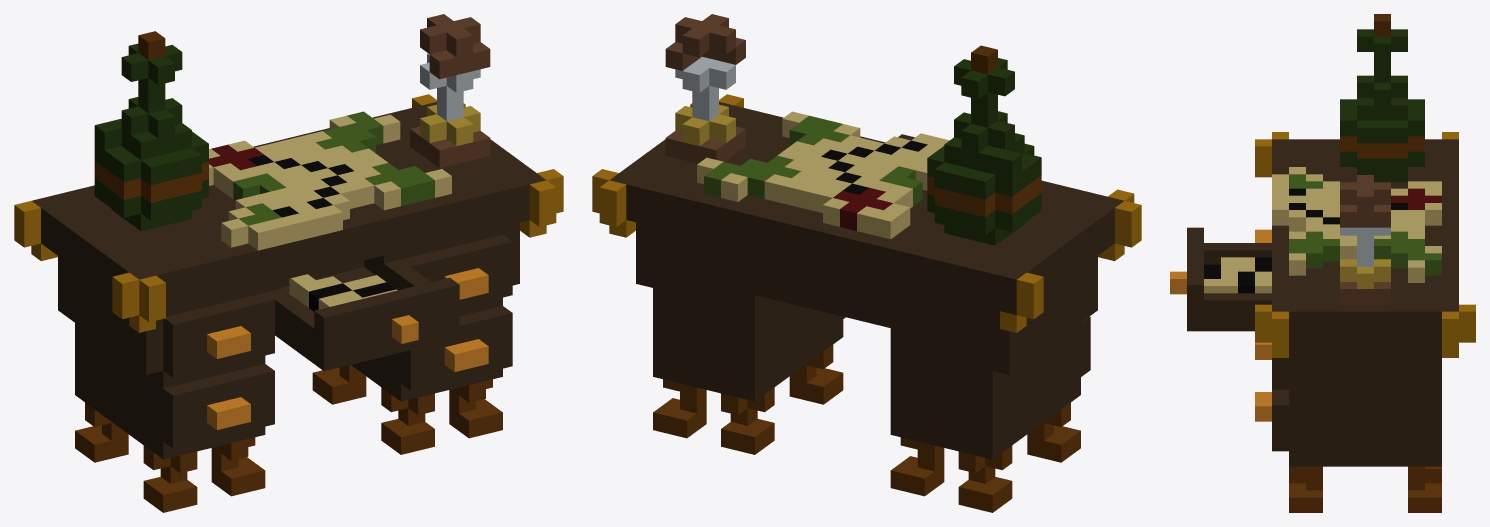
The model's file is ship-3.obj.
3 views of the same model, side by side, from view 1: azimuth 30°, elevation 25°; view 2: azimuth 150°, elevation 25°; view 3: azimuth 270°, elevation 25° (orthographic). The views are drawn at different scales.
Bounding box in the file's own units: 2.6 × 2.4 × 1.8.
Materials: 1 (1 with a texture image).
